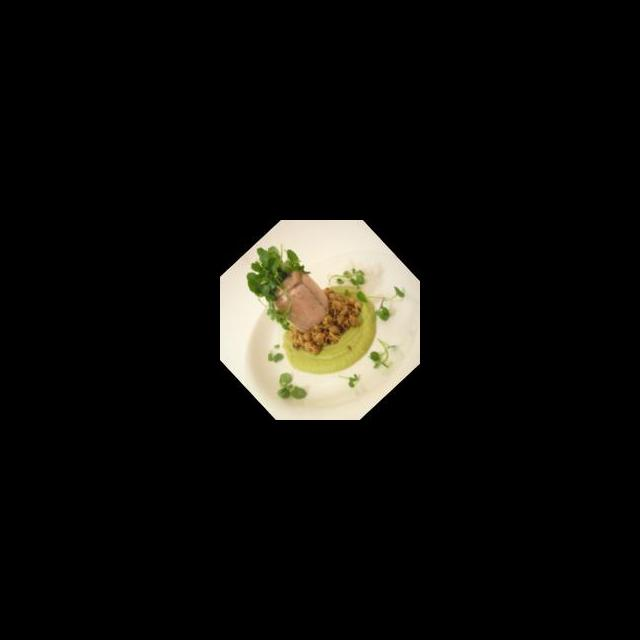ca hoi: (260, 258, 338, 337)
